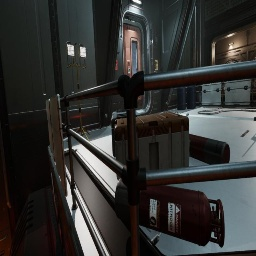EmergencyPhone ,: (154, 57, 158, 70), (156, 62, 157, 64)
FireAlarm ,: (115, 60, 118, 70)
NitrogenTank ,: (114, 178, 225, 248), (189, 134, 230, 165)
SafetySwitchPanel ,: (199, 92, 203, 106)
